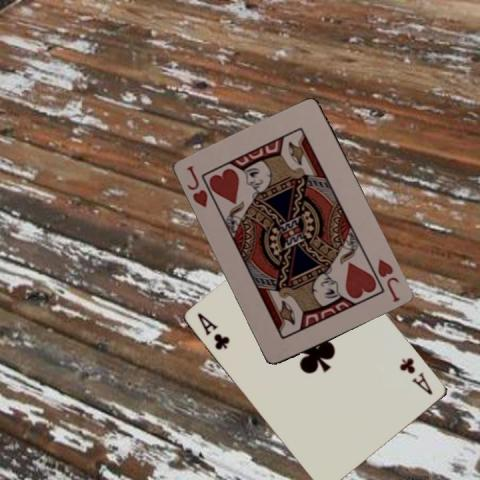Ac: (396, 355, 434, 396), (195, 310, 231, 351)
Jh: (375, 256, 402, 304), (184, 163, 210, 209)
